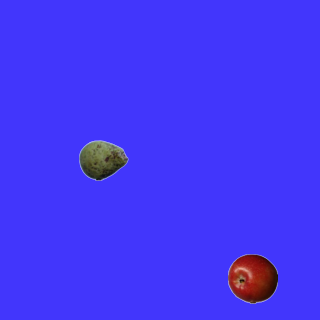Apple Braeburn: (227, 253, 277, 303)
Pear Stone: (78, 135, 128, 185)
